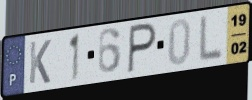0: (166, 17, 193, 69)
1: (68, 30, 84, 83)
6: (97, 26, 123, 80)
K: (28, 38, 53, 86)
L: (197, 13, 225, 65)
P: (126, 21, 159, 75)
